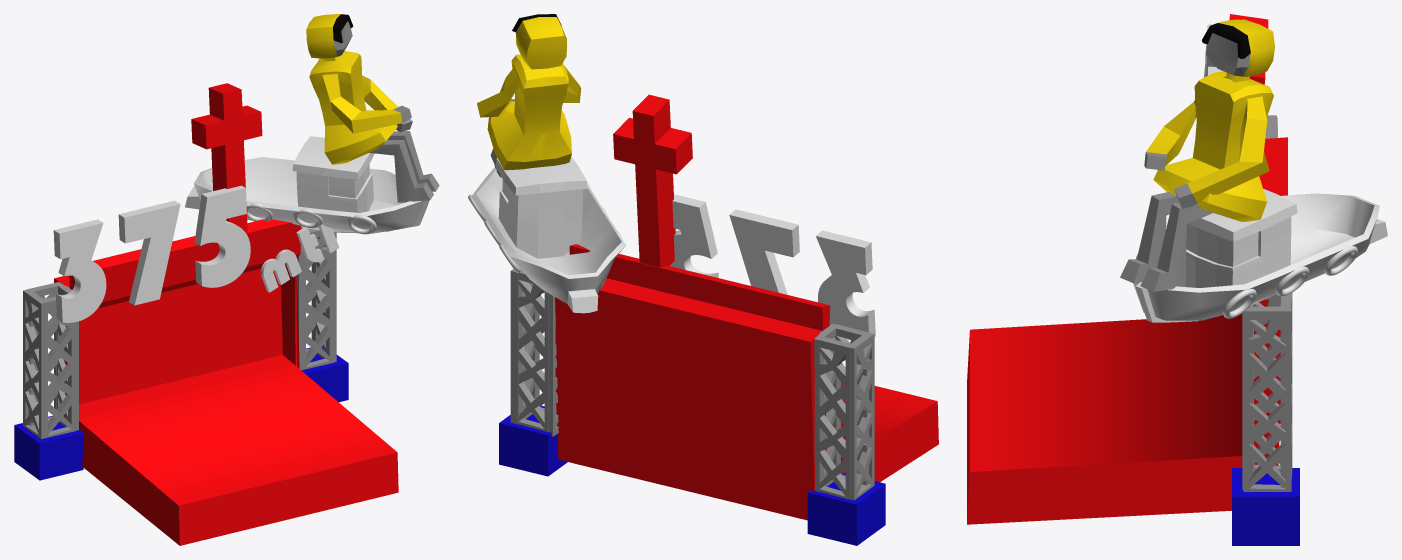
The model's file is MOD_Sceneconcert.FBX.
The picture shows the model from 3 angles, left to right: view 1: azimuth 30°, elevation 25°; view 2: azimuth 150°, elevation 25°; view 3: azimuth 270°, elevation 25°; orthographic projection. The views are drawn at different scales.
Parts seen in each view (by area): view 1: Mont Royal, Text001, Bateau, CHAR_Female001, croix002, estrade006, Box034, estrade007, estrade003, Group001, Box033, estrade005 (+3 smaller); view 2: Mont Royal, Bateau, CHAR_Female001, Text001, croix002, estrade004, estrade006, Box034, estrade002, Box033, estrade001, estrade005 (+2 smaller); view 3: Mont Royal, CHAR_Female001, Bateau, estrade001, Box033, estrade, estrade002, estrade003, Torus001, Torus003, Torus005.
Boxes of the visible parts, left/top/right/bottom form: Mont Royal: left=54, top=219, right=398, bottom=545; Text001: left=53, top=185, right=250, bottom=322; Bateau: left=185, top=136, right=429, bottom=233; CHAR_Female001: left=306, top=14, right=439, bottom=202; croix002: left=191, top=83, right=262, bottom=235; estrade006: left=23, top=289, right=47, bottom=439; Box034: left=14, top=416, right=83, bottom=480; estrade007: left=40, top=293, right=75, bottom=437; estrade003: left=306, top=229, right=333, bottom=368; Group001: left=260, top=224, right=339, bottom=292; Box033: left=301, top=347, right=348, bottom=402; estrade005: left=54, top=282, right=78, bottom=430; Mont Royal: left=555, top=244, right=938, bottom=520; Bateau: left=471, top=156, right=625, bottom=313; CHAR_Female001: left=477, top=14, right=581, bottom=177; Text001: left=670, top=194, right=875, bottom=340; croix002: left=613, top=94, right=692, bottom=267; estrade004: left=819, top=337, right=853, bottom=499; estrade006: left=850, top=333, right=874, bottom=500; Box034: left=807, top=473, right=885, bottom=545; estrade002: left=518, top=270, right=548, bottom=431; Box033: left=499, top=405, right=567, bottom=476; estrade001: left=510, top=269, right=534, bottom=424; estrade005: left=814, top=323, right=839, bottom=491; Mont Royal: left=967, top=137, right=1287, bottom=524; CHAR_Female001: left=1120, top=19, right=1274, bottom=291; Bateau: left=1133, top=189, right=1387, bottom=322; estrade001: left=1243, top=306, right=1291, bottom=491; Box033: left=1232, top=468, right=1299, bottom=545; estrade: left=1254, top=294, right=1281, bottom=471; estrade002: left=1280, top=293, right=1292, bottom=487; estrade003: left=1242, top=304, right=1253, bottom=489; Torus001: left=1223, top=288, right=1256, bottom=318; Torus003: left=1275, top=266, right=1309, bottom=296; Torus005: left=1324, top=246, right=1357, bottom=275.
Size of the model in its own units: 85.15 by 84.75 by 61.84.
